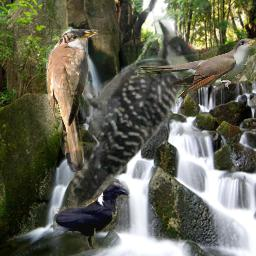Crow: (53, 181, 130, 249)
Cuckoo: (46, 29, 98, 172), (137, 38, 255, 98)
Woodpecker: (68, 11, 199, 222)
